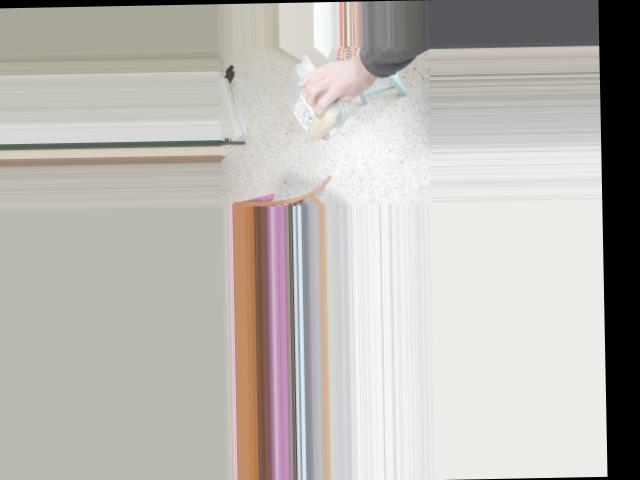cheese: (291, 59, 333, 149)
